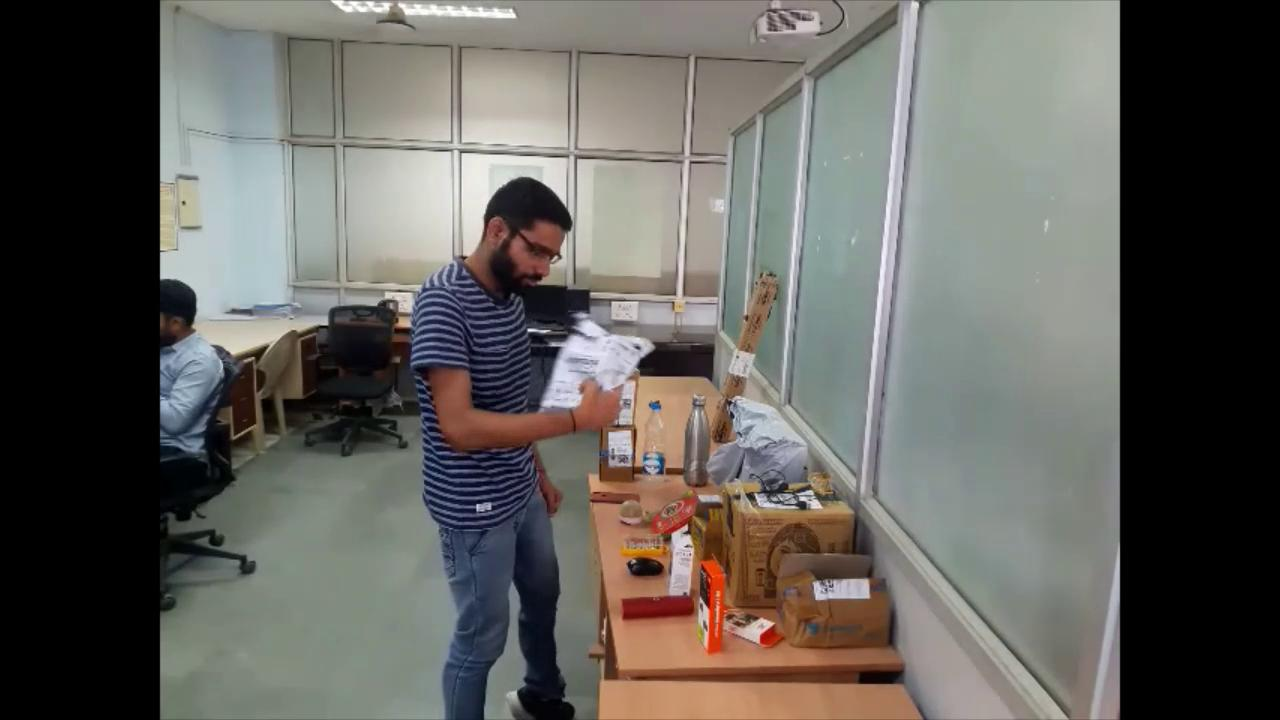Normal: (399, 165, 652, 720)
